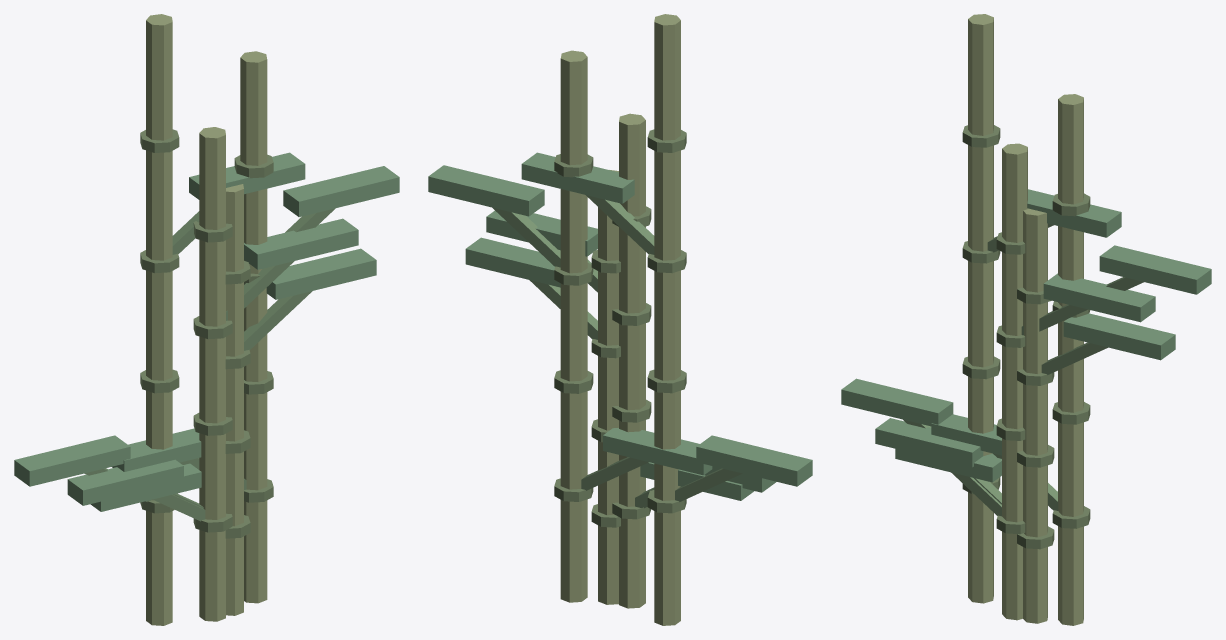
File: bambu_grupo.glb
The picture shows the model from 3 angles, left to right: view 1: azimuth 30°, elevation 25°; view 2: azimuth 150°, elevation 25°; view 3: azimuth 330°, elevation 25°; orthographic projection. The views are drawn at different scales.
Visible parts, largest first — view 1: part_000, part_018, part_027, part_009, part_034, part_003, part_025, part_016, part_021, part_007, part_030, part_012 (+11 smaller); view 2: part_000, part_027, part_018, part_009, part_034, part_003, part_007, part_016, part_030, part_025, part_006, part_033 (+14 smaller); view 3: part_000, part_027, part_018, part_009, part_034, part_016, part_003, part_025, part_021, part_007, part_012, part_030 (+10 smaller).
Boxes of the visible parts, box(x1,y1,x2,y2) form: part_000: box(146, 14, 172, 625); part_018: box(199, 127, 225, 621); part_027: box(240, 51, 267, 603); part_009: box(226, 184, 243, 615); part_034: box(283, 166, 399, 216); part_003: box(14, 435, 130, 486); part_025: box(244, 218, 358, 269); part_016: box(266, 248, 376, 299); part_021: box(67, 459, 183, 505); part_007: box(189, 152, 305, 199); part_030: box(112, 428, 201, 471); part_012: box(90, 463, 201, 511); part_000: box(654, 14, 680, 625); part_027: box(560, 50, 587, 602); part_018: box(619, 113, 645, 608); part_009: box(598, 170, 618, 604); part_034: box(428, 165, 544, 216); part_003: box(696, 435, 812, 486); part_007: box(521, 152, 634, 203); part_016: box(465, 237, 560, 287); part_030: box(603, 428, 712, 475); part_025: box(486, 210, 597, 256); part_006: box(586, 195, 654, 254); part_033: box(492, 207, 560, 267); part_000: box(968, 14, 993, 603); part_027: box(1058, 94, 1083, 625); part_018: box(1002, 143, 1027, 620); part_009: box(1023, 208, 1047, 623); part_034: box(1099, 245, 1211, 294); part_016: box(1063, 313, 1175, 360); part_003: box(841, 378, 953, 426); part_025: box(1043, 273, 1155, 322); part_021: box(875, 418, 983, 467); part_007: box(1027, 189, 1121, 237); part_012: box(895, 449, 1001, 482); part_030: box(931, 414, 1001, 455).
Bounding box in the file's own units: 2.75 × 4.27 × 0.376.
